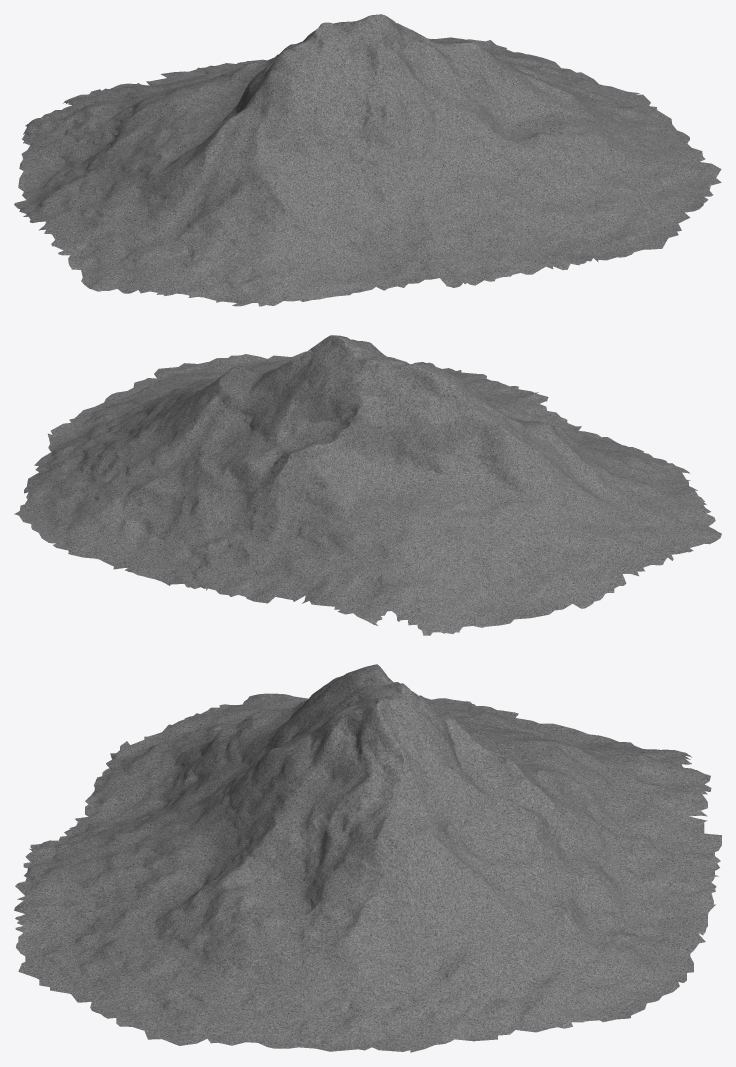
The model's file is Molybdenum.glb.
3 views of the same model, one above another, from view 1: azimuth 30°, elevation 25°; view 2: azimuth 150°, elevation 25°; view 3: azimuth 270°, elevation 25° (orthographic). The views are drawn at different scales.
Visible parts, largest first — view 1: moly_powser; view 2: moly_powser; view 3: moly_powser.
Part boxes in pixels (x1,y1,x2,y2): moly_powser: (14,14,721,306); moly_powser: (14,335,721,635); moly_powser: (14,664,721,1052).
Bounding box in the file's own units: 0.1411 × 0.0348 × 0.1174.
Materials: 1 (1 with a texture image).
